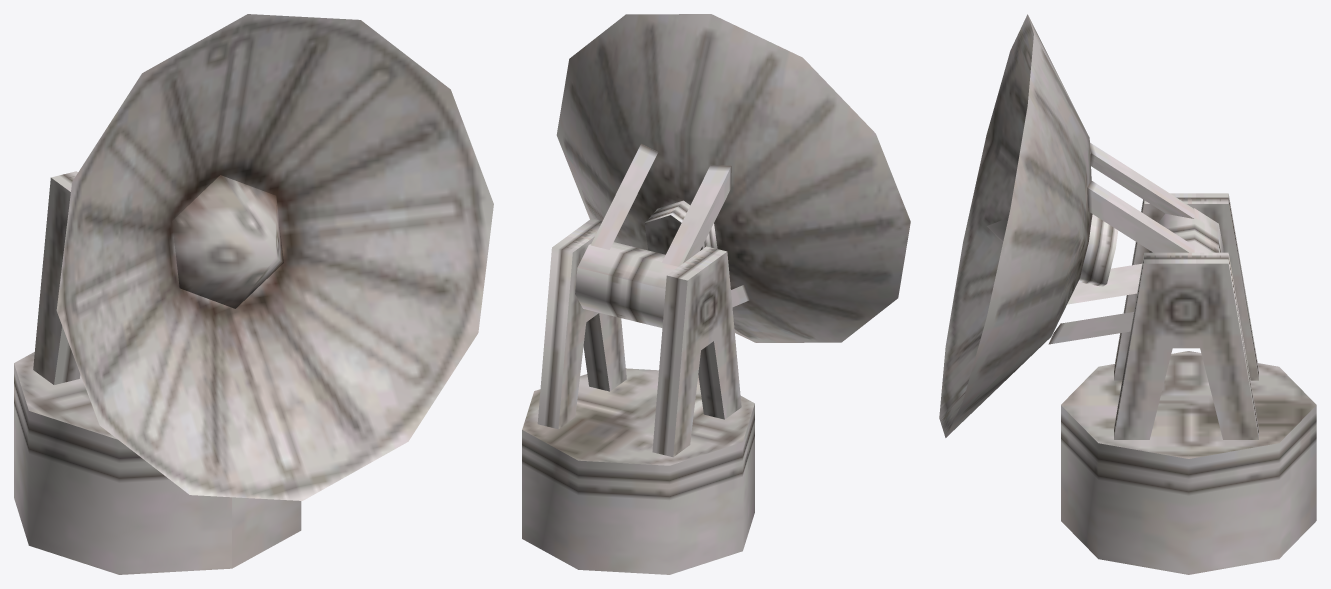
The model's file is yt1300_radar_s01_l2.fbx.
3 renders of one model, left to right at view 1: azimuth 30°, elevation 25°; view 2: azimuth 150°, elevation 25°; view 3: azimuth 270°, elevation 25°, orthographic. The views are drawn at different scales.
Visible parts, largest first — view 1: mesh_node; view 2: mesh_node; view 3: mesh_node.
Boxes of the visible parts, left/top/right/bottom form: mesh_node: left=14, top=14, right=493, bottom=574; mesh_node: left=522, top=14, right=910, bottom=574; mesh_node: left=939, top=14, right=1316, bottom=574.
Size of the model in its own units: 4.07 by 5.04 by 3.54.
1 material, 1 textured.
